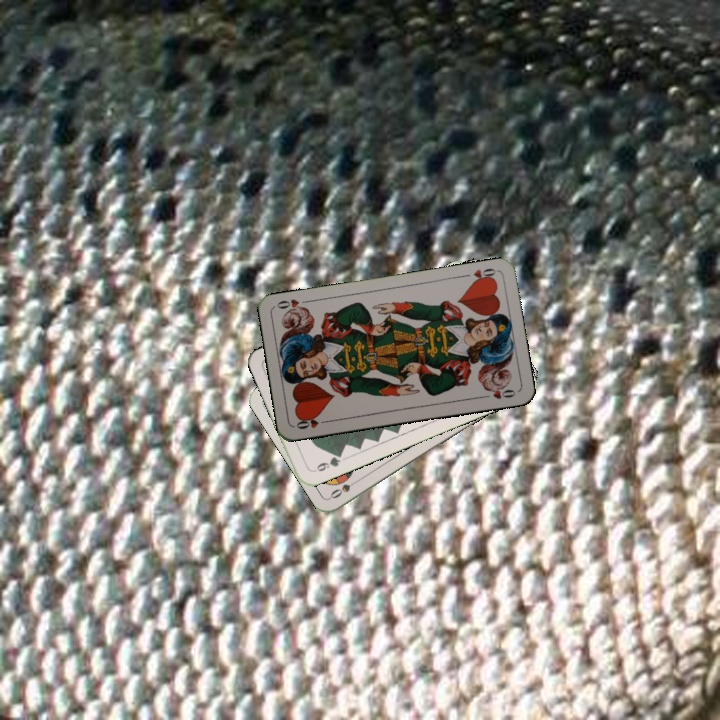G9: (308, 449, 345, 475)
HO: (459, 264, 499, 285), (292, 413, 332, 432)
SO: (326, 475, 362, 501)
